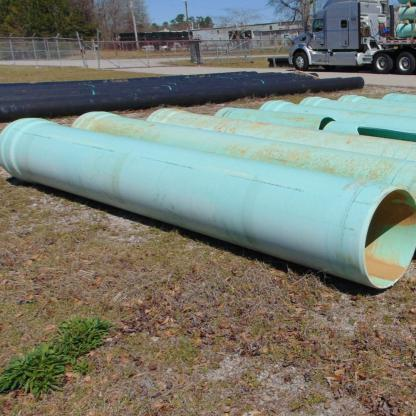PVC: (0, 92, 415, 290), (1, 70, 366, 121), (396, 1, 416, 37)
